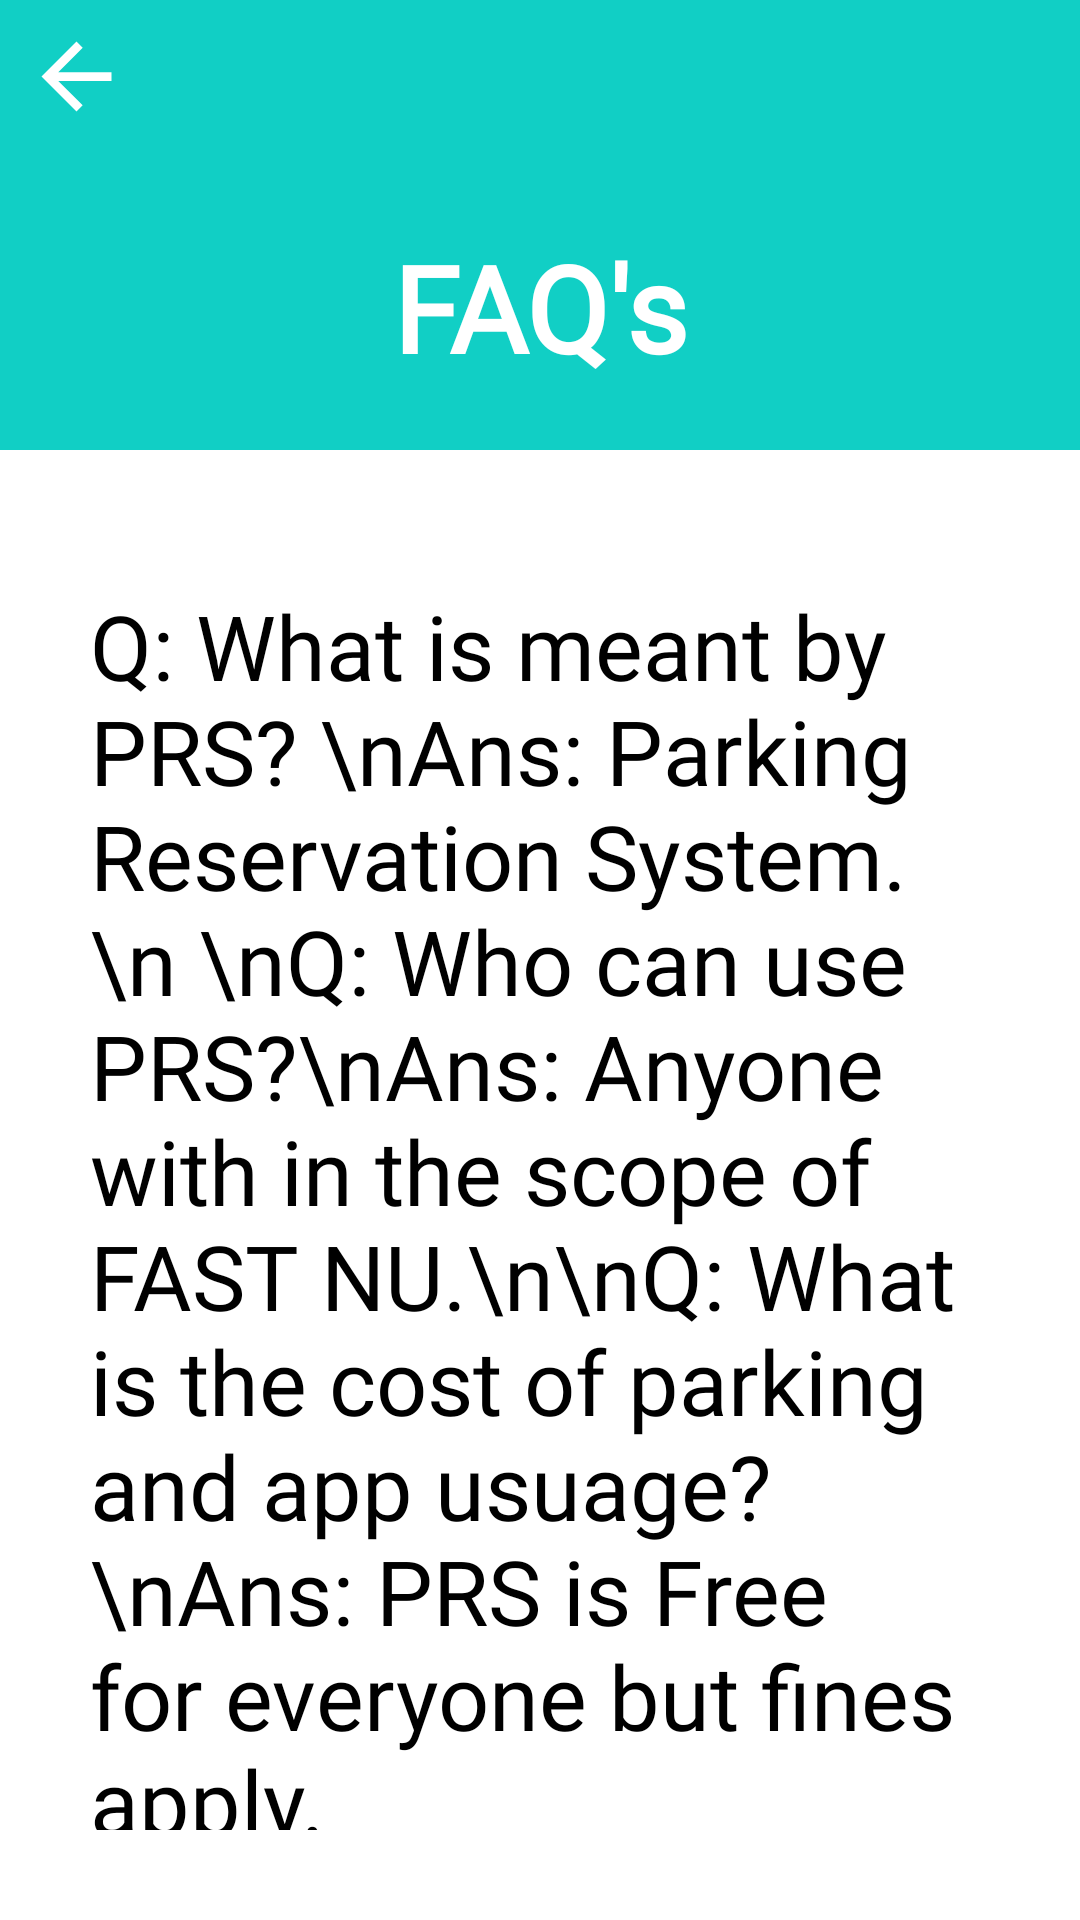

Where icons sit on this 1080px×1920px app screen, as [x1, y1, x2, y2]:
arrow back: [41, 41, 112, 112]
